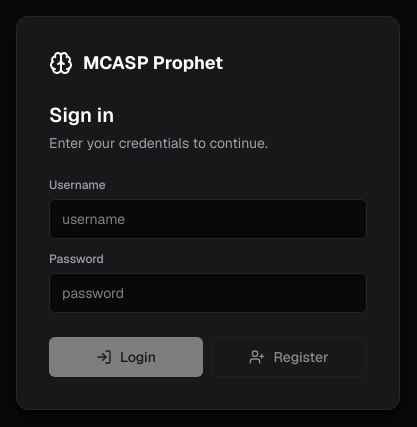
Test case: LoginPage › Action Buttons › buttons become enabled when both fields are filled
This screenshot has width=417, height=427.
Type "testuser" into the field with placeholder "username" at [208, 219], box x1=49 y1=199 x2=367 y2=239
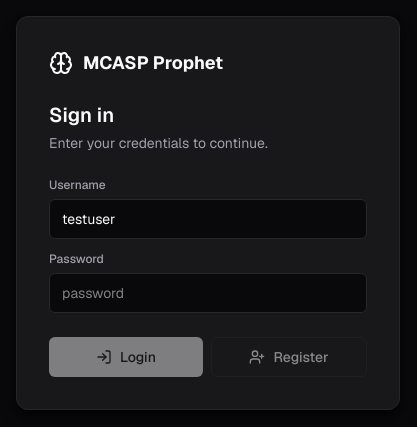
Type "testpass" into the password field with placeholder "password" at [208, 293], box x1=49 y1=273 x2=367 y2=313
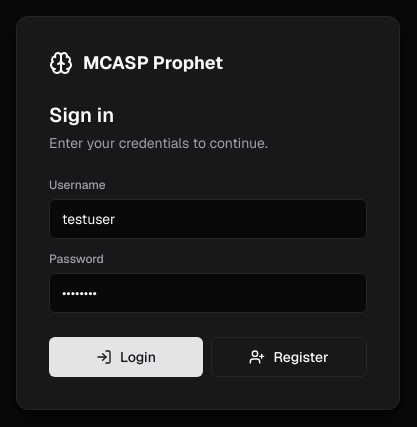
Result: the button "Login" is enabled at x1=49 y1=337 x2=203 y2=377
Result: the button "Register" is enabled at x1=211 y1=337 x2=367 y2=377
